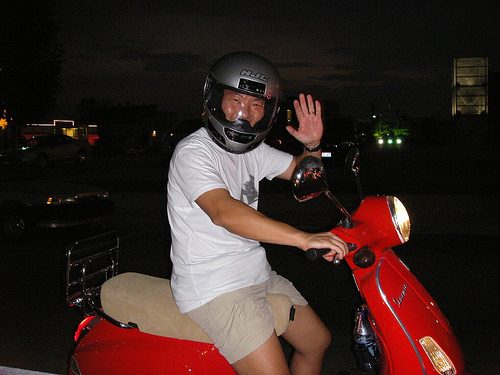without_mask: (202, 56, 283, 152)
